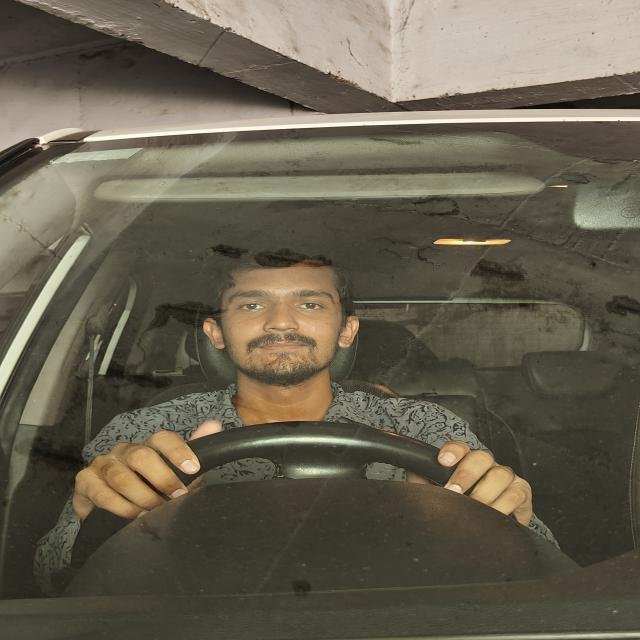no-seatbelt: (72, 370, 492, 515)
